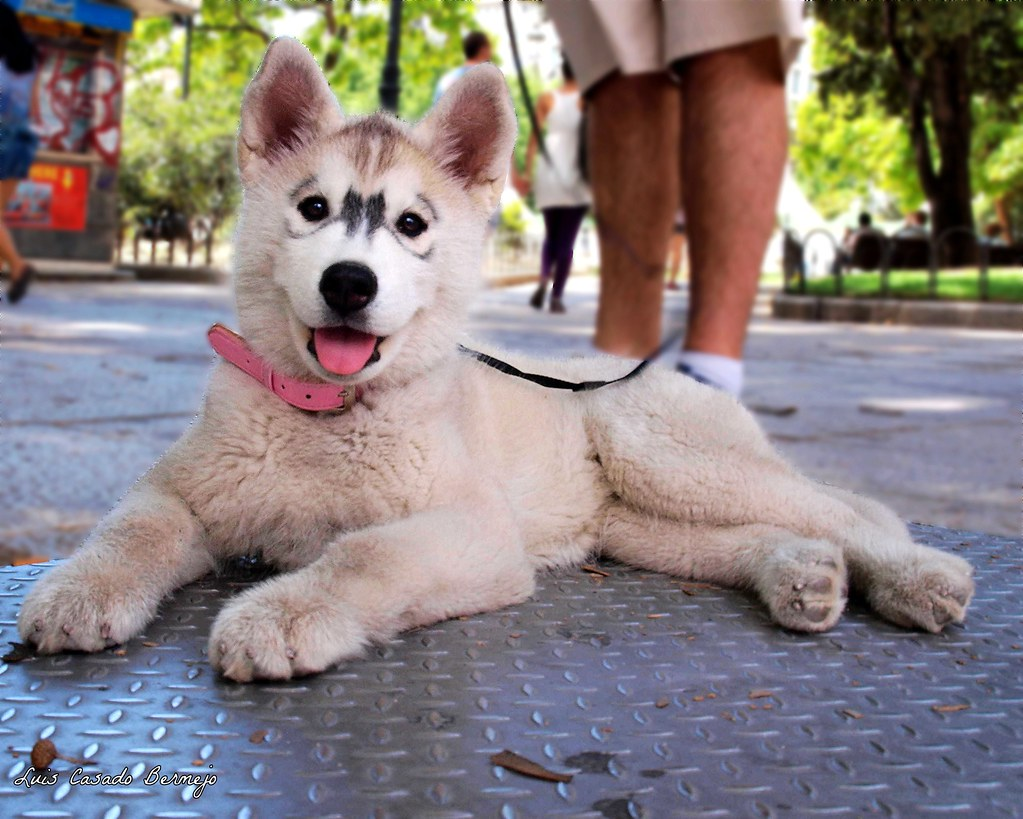husky: (175, 20, 541, 633)
